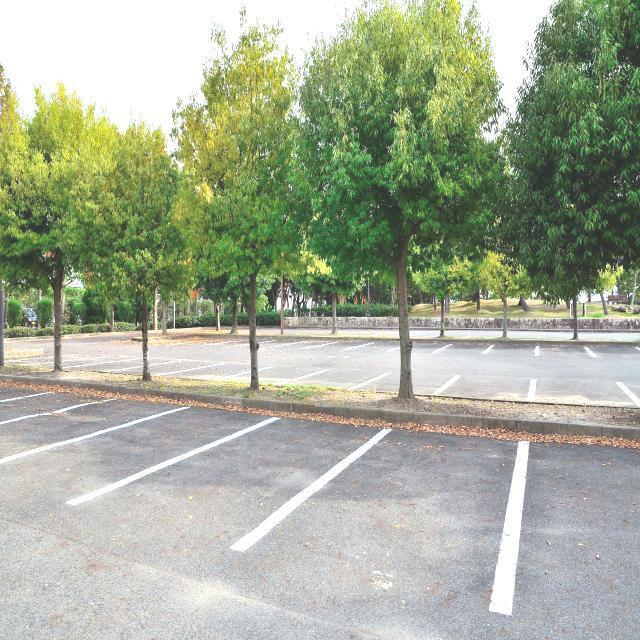space-empty: (230, 424, 527, 624), (63, 410, 390, 555), (0, 404, 278, 511), (487, 442, 640, 622), (0, 393, 200, 466), (0, 388, 126, 430), (527, 377, 640, 409), (346, 370, 461, 397), (430, 375, 536, 404), (273, 369, 393, 393), (101, 359, 226, 379), (151, 362, 276, 380), (217, 365, 328, 385)
